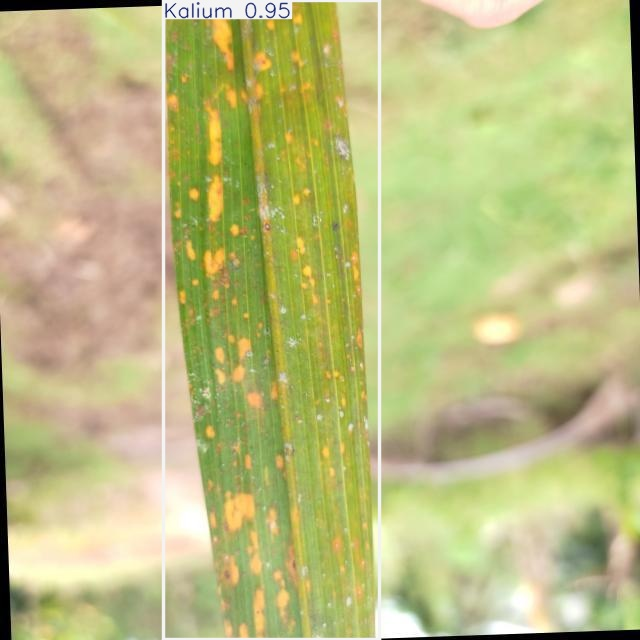Kalium: (164, 0, 379, 640)
